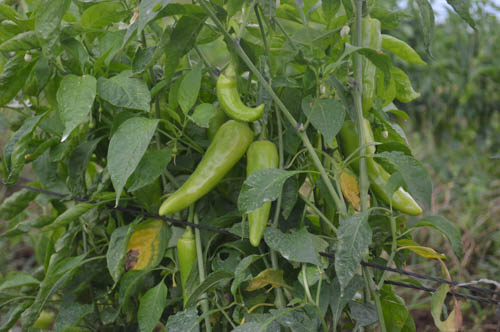ChiliPepper: (156, 120, 252, 223), (342, 125, 421, 217), (244, 140, 277, 248), (351, 19, 380, 111), (216, 75, 265, 122), (172, 234, 200, 298)
